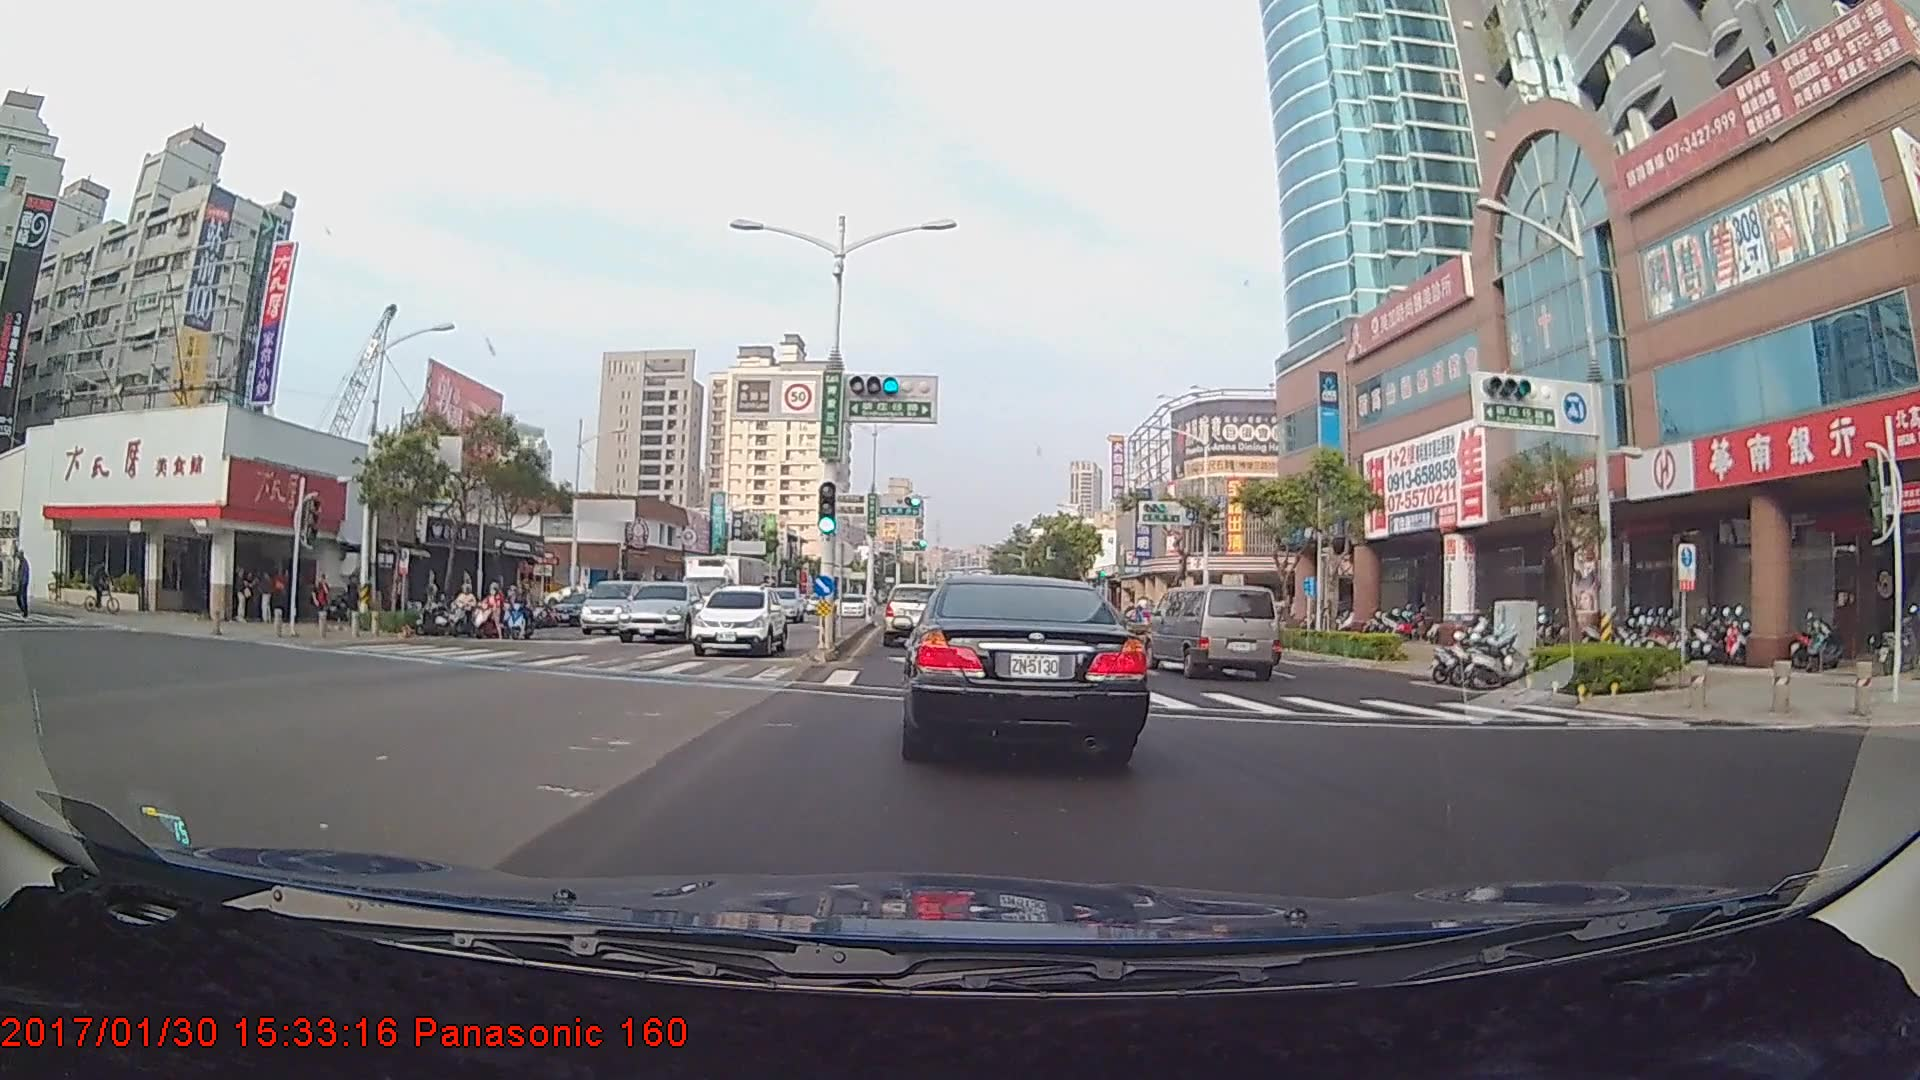pedestrian: (13, 548, 33, 620), (256, 569, 279, 628), (235, 565, 256, 627), (311, 574, 332, 631)
rider: (500, 584, 543, 644), (80, 566, 129, 615), (467, 580, 507, 639), (448, 582, 486, 642)
vehicle: (901, 567, 1144, 765), (1148, 582, 1283, 680), (682, 550, 769, 636), (690, 588, 788, 656), (619, 581, 698, 644), (877, 580, 944, 646), (578, 578, 642, 634)
